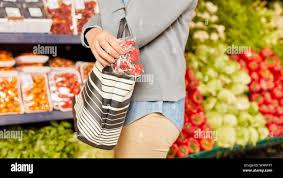shoplifting: (58, 11, 165, 93)
